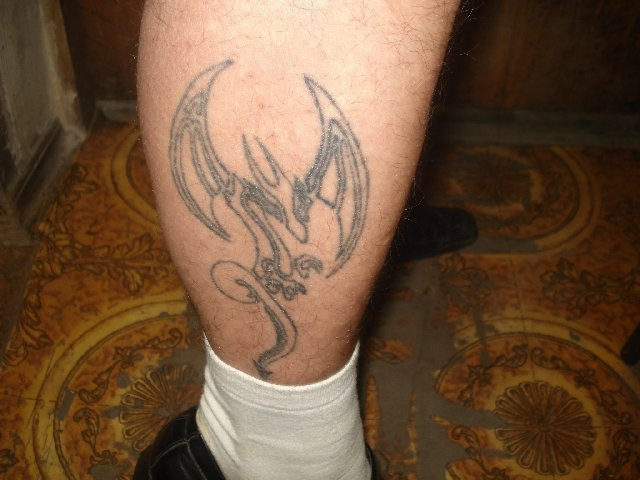tatu6_drakon: (150, 49, 410, 380)
